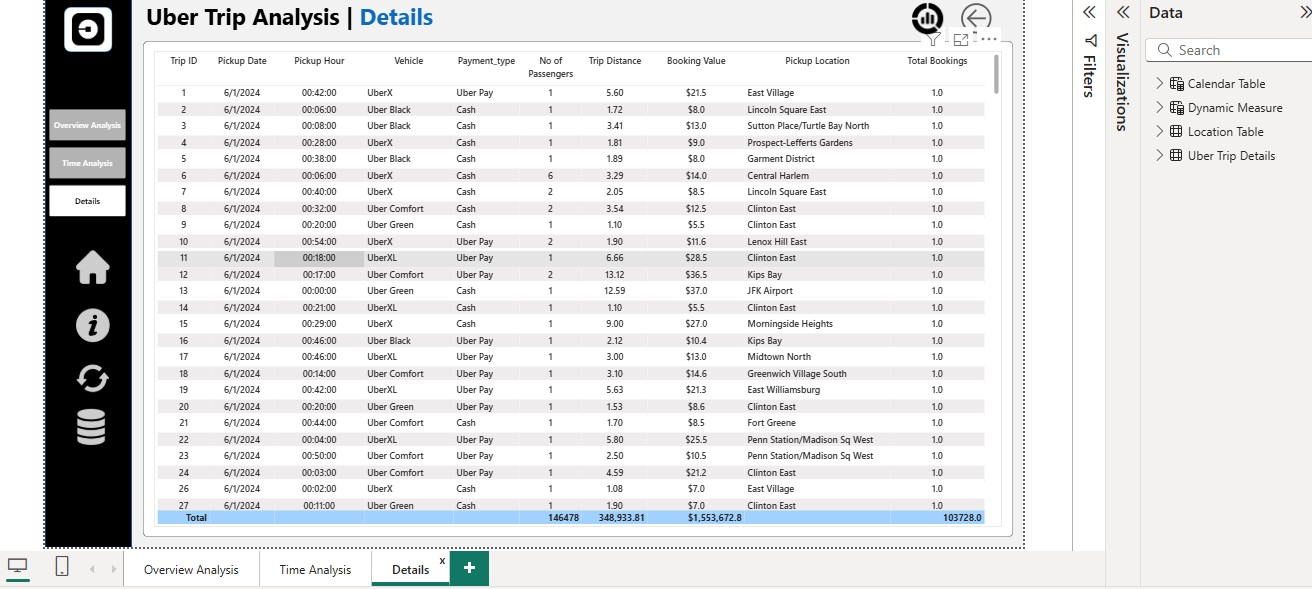

The dashboard page shown, as its layout file describes it:
{"tool":"powerbi","page":{"name":"Details","canvas":[1600,900],"ordinal":2},"visuals":[{"type":"shape","box":[0,0,142,900.8],"z":0},{"type":"shape","box":[30.6,16.2,79.2,73.8],"z":0,"group":"g1"},{"type":"textbox","box":[159.6,0,640.4,88.2],"z":1000},{"type":"image","box":[30.6,21.6,79.2,63],"z":1000,"group":"g1"},{"type":"shape","box":[160.2,72,1423.8,811.8],"z":2000},{"type":"actionButton","box":[1492.1,3.7,74.4,63.3],"z":3000},{"type":"tableEx","fields":{"Values":["Uber Trip Details.Trip ID","Uber Trip Details.Pickup Date","Uber Trip Details.Pickup Hour (HH MM SS)","Uber Trip Details.Vehicle","Uber Trip Details.Payment_type","Sum(Uber Trip Details.passenger_count)","Uber Trip Details.Total Trip Distance Measure","Uber Trip Details.Total Booking Value","Location Table.Location","Uber Trip Details.Total Bookings"]},"box":[178.2,88.2,1387.8,779.4],"z":4000},{"type":"image","box":[1395.3,5.6,96.7,61.4],"z":5000},{"type":"group","id":"g1","title":"Group 1","box":[30.6,16.2,79.2,73.8],"z":6000},{"type":"pageNavigator","box":[7.2,183.6,126,178.2],"z":7000},{"type":"image","box":[45,406.8,64.8,68.4],"z":8000},{"type":"image","box":[45,500.4,64.8,72],"z":9000},{"type":"image","box":[45,592.2,64.8,63],"z":10000},{"type":"image","box":[40.9,666,68.8,74.4],"z":11000}]}

Visuals, with their boxes on the page's 1600x900 design canvas (x1, y1, x2, y2). These are canvas units, not pixel positions in the 1312x589 screenshot, which may show the page scaled, cropped or inside an application window:
shape: 0,0,142,901
shape: 31,16,110,90
textbox: 160,0,800,88
image: 31,22,110,85
shape: 160,72,1584,884
actionButton: 1492,4,1566,67
tableEx - Uber Trip Details.Trip ID x Uber Trip Details.Pickup Date: 178,88,1566,868
image: 1395,6,1492,67
"Group 1" group: 31,16,110,90
pageNavigator: 7,184,133,362
image: 45,407,110,475
image: 45,500,110,572
image: 45,592,110,655
image: 41,666,110,740
